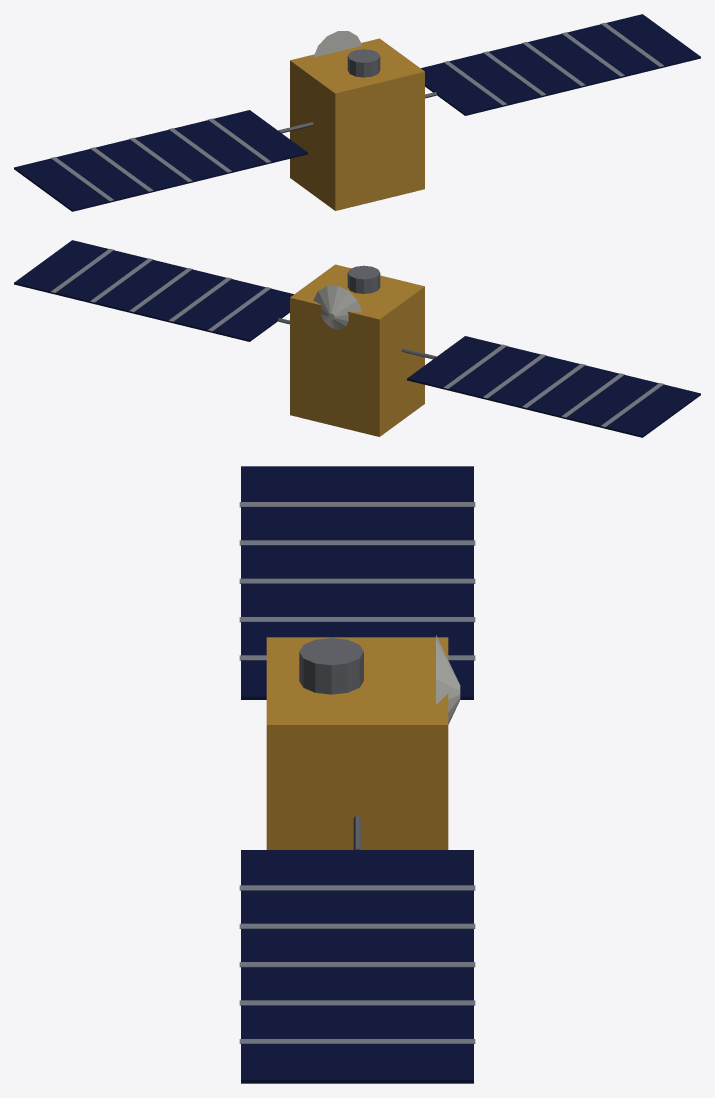
File: bus.glb
3 views of the same model, one above another, from view 1: azimuth 30°, elevation 25°; view 2: azimuth 150°, elevation 25°; view 3: azimuth 270°, elevation 25° (orthographic). The views are drawn at different scales.
Visible parts, largest first — view 1: bus; view 2: bus; view 3: bus.
Boxes of the visible parts, box(x1,y1,x2,y2) form: bus: box(14, 14, 700, 211); bus: box(14, 240, 700, 437); bus: box(239, 466, 475, 1083).
Size of the model in its own units: 11.2 by 2.4 by 1.82.
